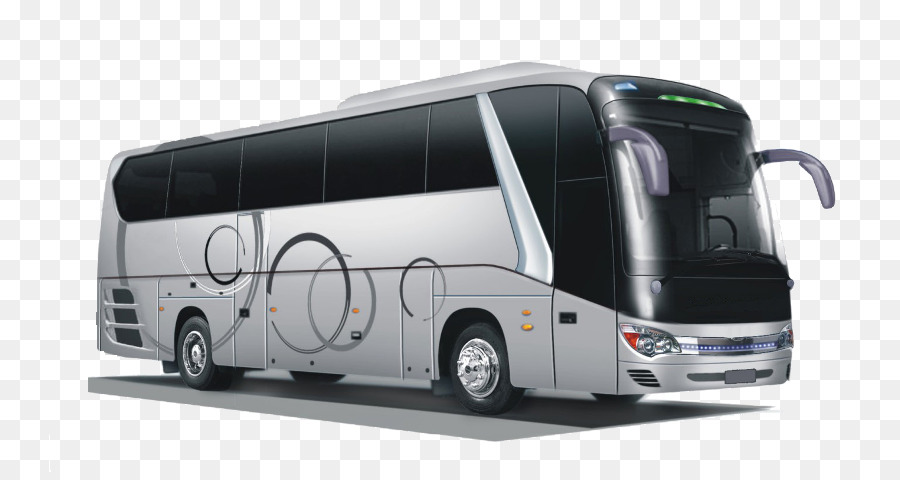bus: (96, 60, 796, 416)
